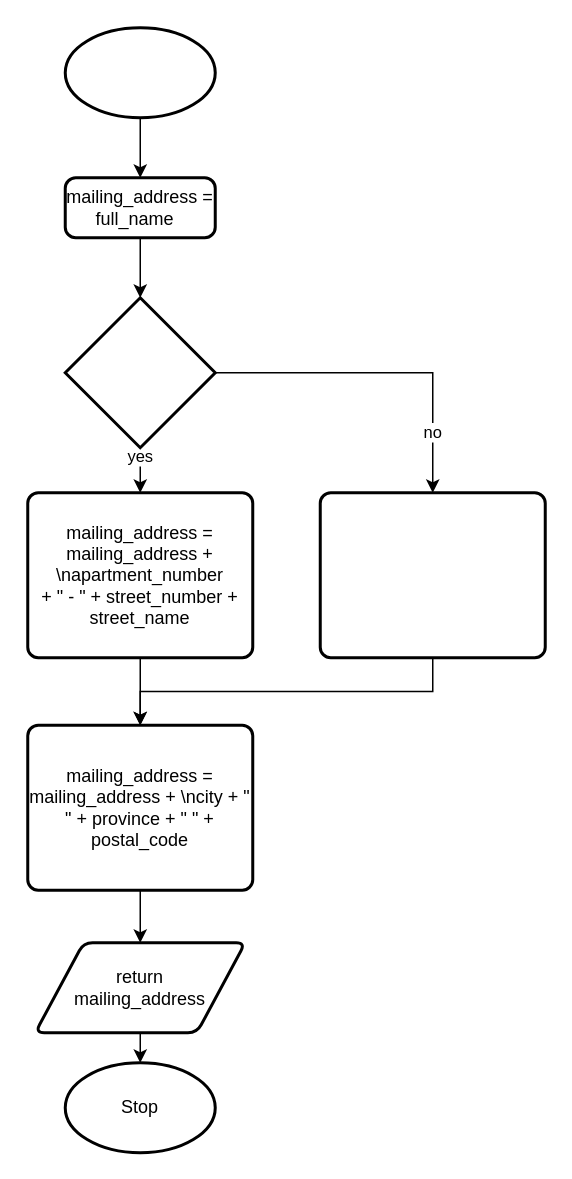
Image size: 572x1179. Some labels were removed from this diagram. Here are the shapes that lost their labels. From the top down, the centre of each, then its label:
At (x=139, y=72): "Start".
At (x=139, y=372): "If appartment != NONE".
At (x=432, y=574): "mailing_address = mailing_address + \nstreet_number + street_name".
